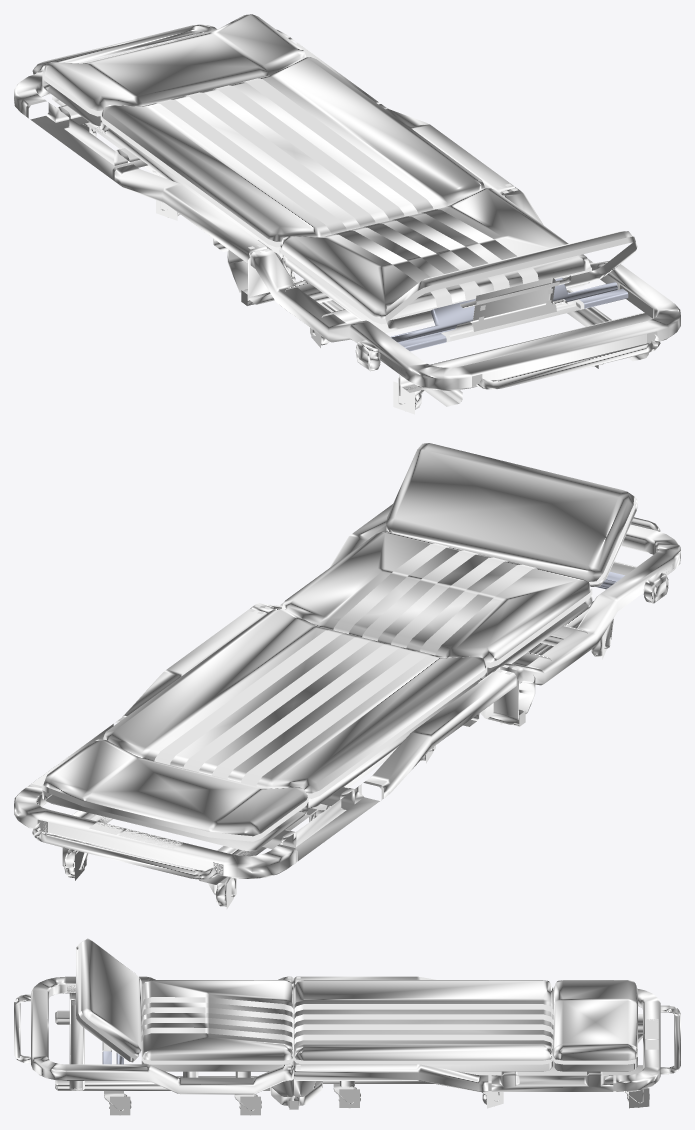
The model's file is trolley_creeper_1_a.glb.
3 views of the same model, one above another, from view 1: azimuth 30°, elevation 25°; view 2: azimuth 150°, elevation 25°; view 3: azimuth 270°, elevation 25° (orthographic). The views are drawn at different scales.
Bounding box in the file's own units: 0.6101 × 0.3011 × 1.69.
